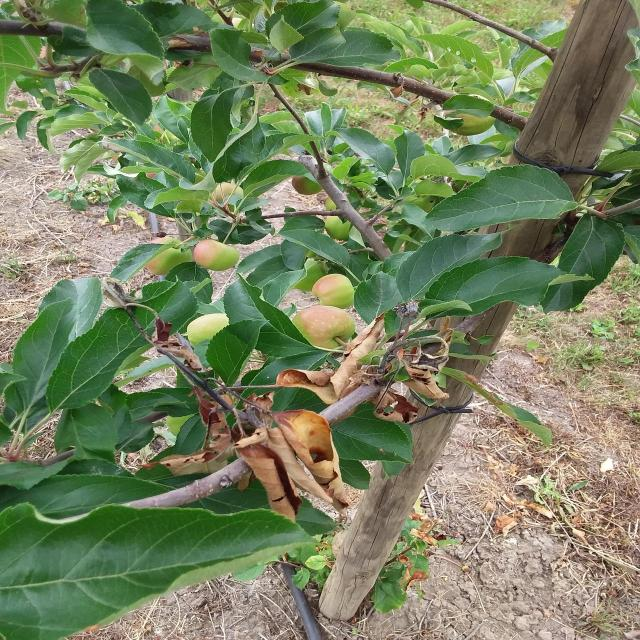-FireBlight-: (165, 349, 358, 512), (350, 328, 448, 426), (278, 358, 384, 404)
